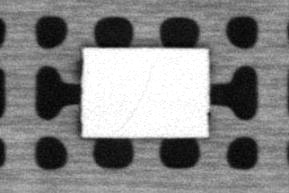DIE_CRACK: (114, 54, 161, 132)
